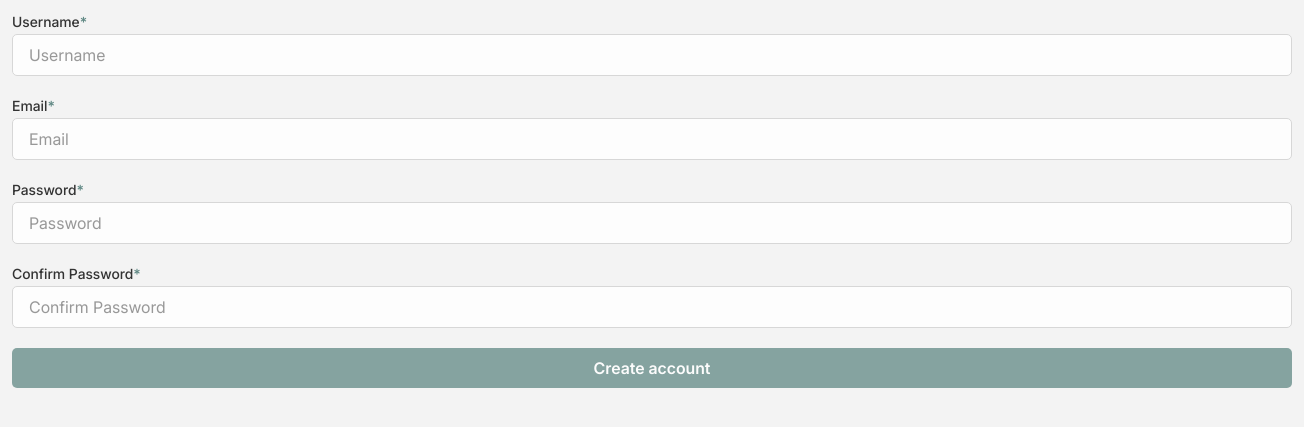
SignUpForm.tsx › should display the correct error message if the password was found in a data breech
Type "username" into the field labelled "Username*" at (652, 55), box x1=12 y1=34 x2=1292 y2=76
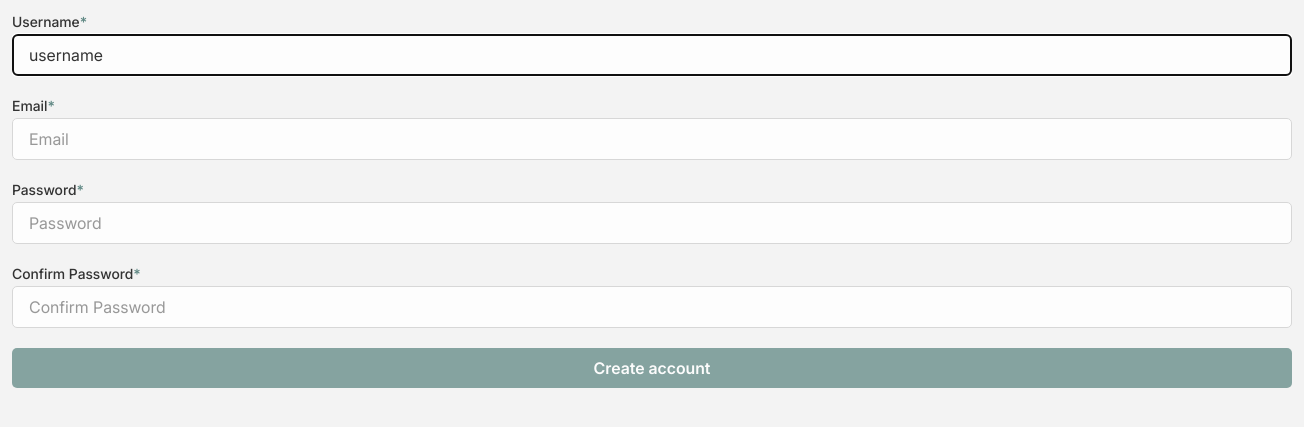
Type "email@email.com" into the field labelled "Email*" at (652, 139), box x1=12 y1=118 x2=1292 y2=160
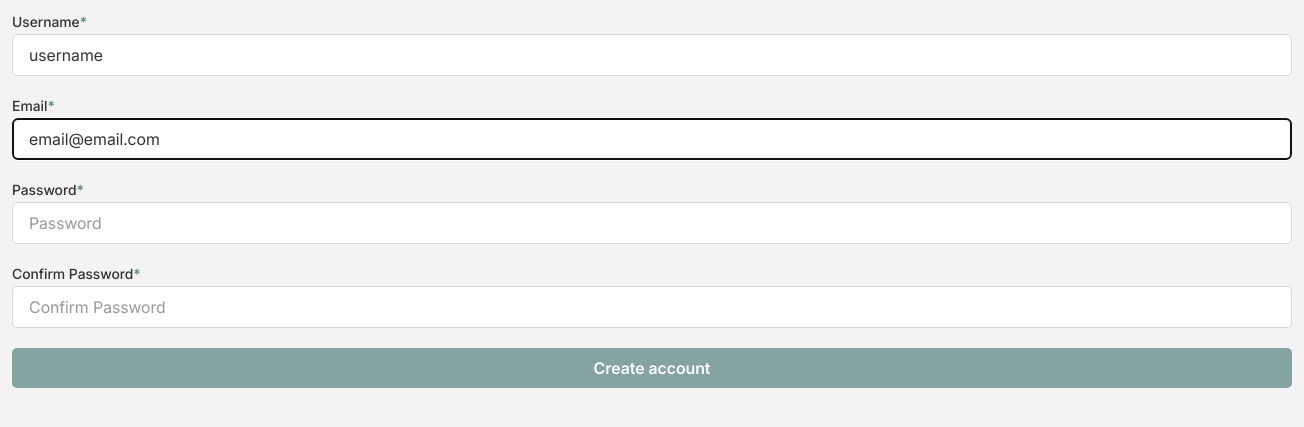
Type "!Password123" into the password field with placeholder "Password" at (652, 223), box x1=12 y1=202 x2=1292 y2=244
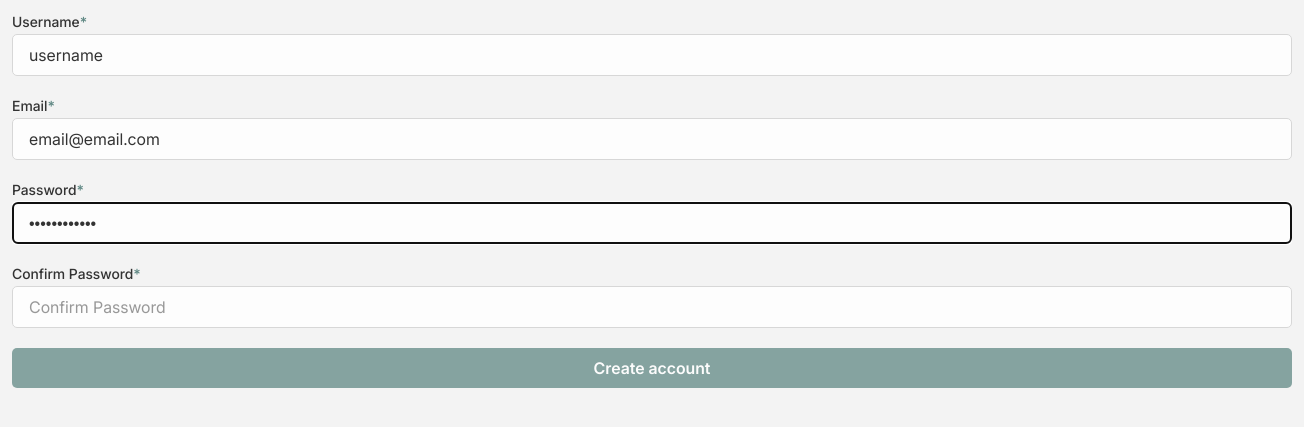
Type "!Password123" into the password field labelled "Confirm Password*" at (652, 307), box x1=12 y1=286 x2=1292 y2=328
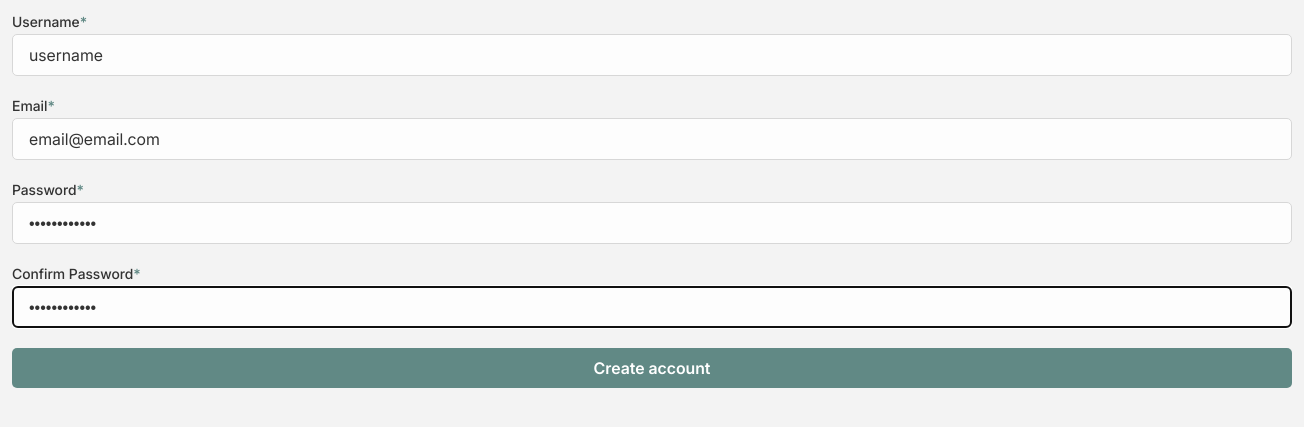
Click the button "Create account" at (652, 368), box x1=12 y1=348 x2=1292 y2=388
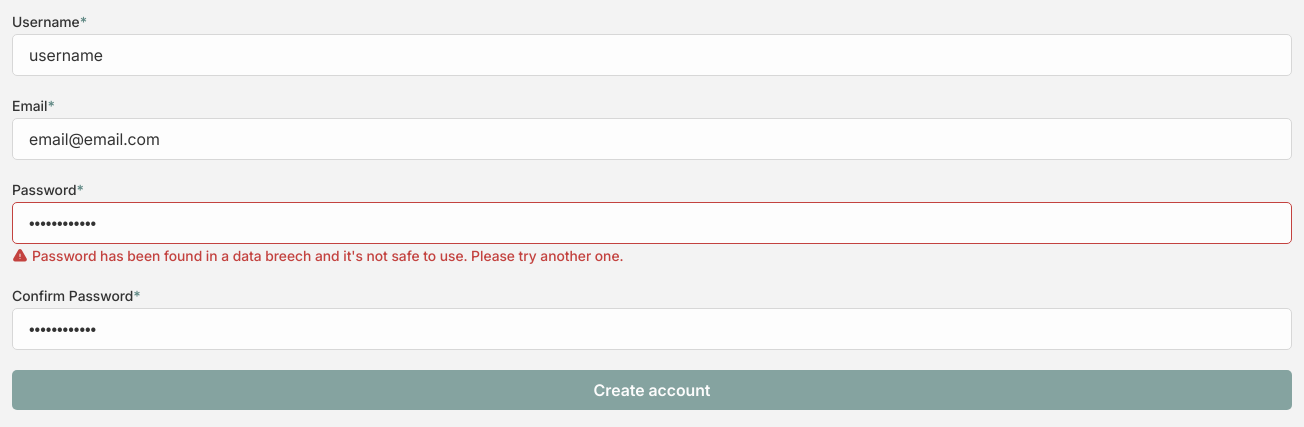
Result: the text "Password has been found in a data breech and it's not safe to use. Please try another one." is shown at x1=32 y1=247 x2=624 y2=264
